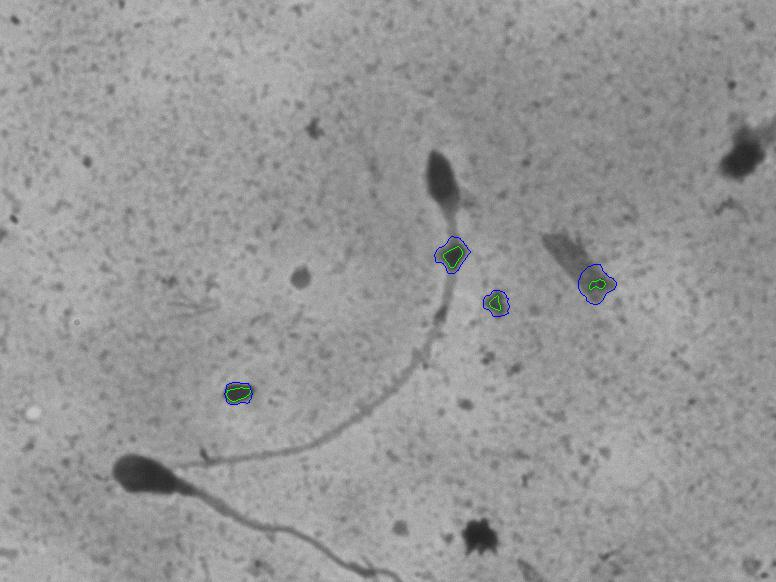Abnormal: (191, 130, 491, 490), (84, 426, 397, 556)
